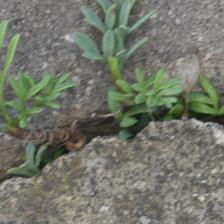Crack: (0, 46, 217, 145)
